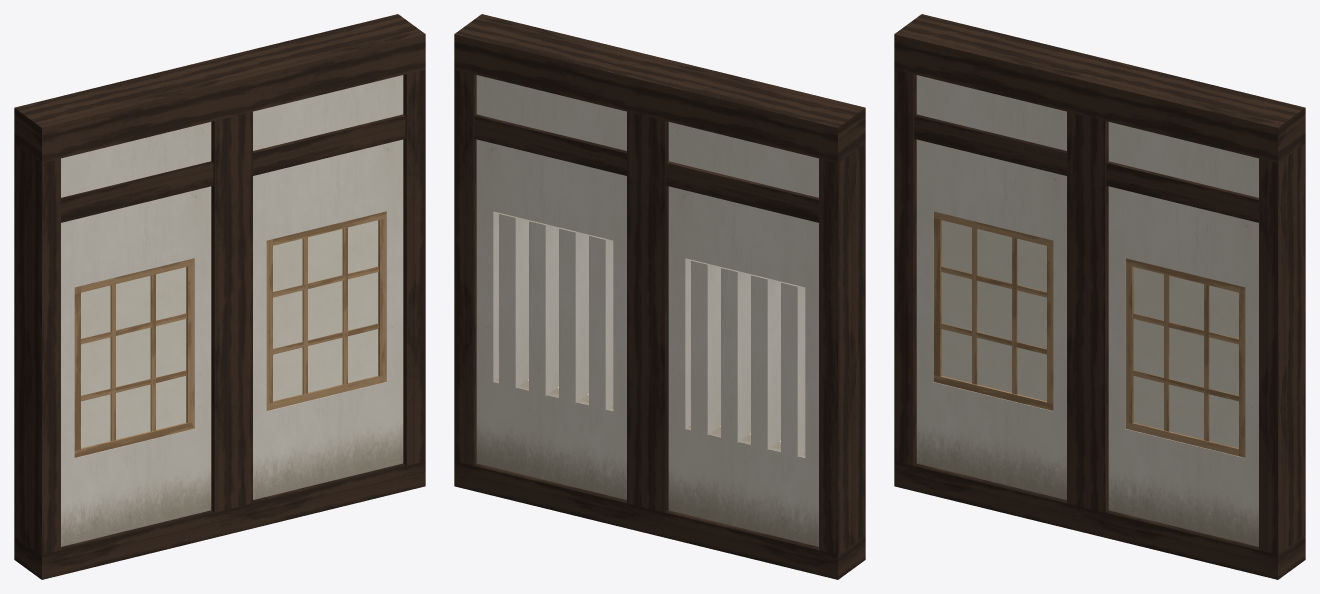
File: HO_Wall_Upper_Mushiko_8.fbx
3 views of the same model, side by side, from view 1: azimuth 30°, elevation 25°; view 2: azimuth 150°, elevation 25°; view 3: azimuth 330°, elevation 25° (orthographic).
Parts seen in each view (by area): view 1: HO_Wall_Upper_Mushiko_8__Timber_Dark, HO_Wall_Upper_Mushiko_8__Plaster_White, HO_Wall_Upper_Mushiko_8__Shoji_Paper, HO_Wall_Upper_Mushiko_8__Timber_Light; view 2: HO_Wall_Upper_Mushiko_8__Plaster_White, HO_Wall_Upper_Mushiko_8__Timber_Dark; view 3: HO_Wall_Upper_Mushiko_8__Timber_Dark, HO_Wall_Upper_Mushiko_8__Plaster_White, HO_Wall_Upper_Mushiko_8__Shoji_Paper, HO_Wall_Upper_Mushiko_8__Timber_Light.
Part boxes in pixels (x1=…): HO_Wall_Upper_Mushiko_8__Timber_Dark: x1=14, y1=14, x2=425, y2=579; HO_Wall_Upper_Mushiko_8__Plaster_White: x1=61, y1=75, x2=403, y2=546; HO_Wall_Upper_Mushiko_8__Shoji_Paper: x1=81, y1=220, x2=378, y2=448; HO_Wall_Upper_Mushiko_8__Timber_Light: x1=74, y1=211, x2=386, y2=457; HO_Wall_Upper_Mushiko_8__Plaster_White: x1=476, y1=75, x2=818, y2=546; HO_Wall_Upper_Mushiko_8__Timber_Dark: x1=454, y1=14, x2=865, y2=579; HO_Wall_Upper_Mushiko_8__Timber_Dark: x1=894, y1=14, x2=1305, y2=579; HO_Wall_Upper_Mushiko_8__Plaster_White: x1=916, y1=75, x2=1258, y2=546; HO_Wall_Upper_Mushiko_8__Shoji_Paper: x1=941, y1=220, x2=1238, y2=448; HO_Wall_Upper_Mushiko_8__Timber_Light: x1=933, y1=211, x2=1245, y2=457.
Bounding box in the file's own units: 8 × 9 × 1.
